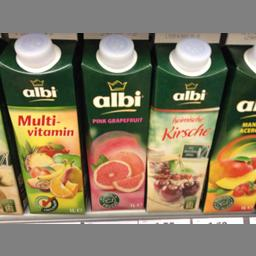juice: (0, 32, 86, 214), (145, 32, 226, 211), (80, 32, 152, 210)
